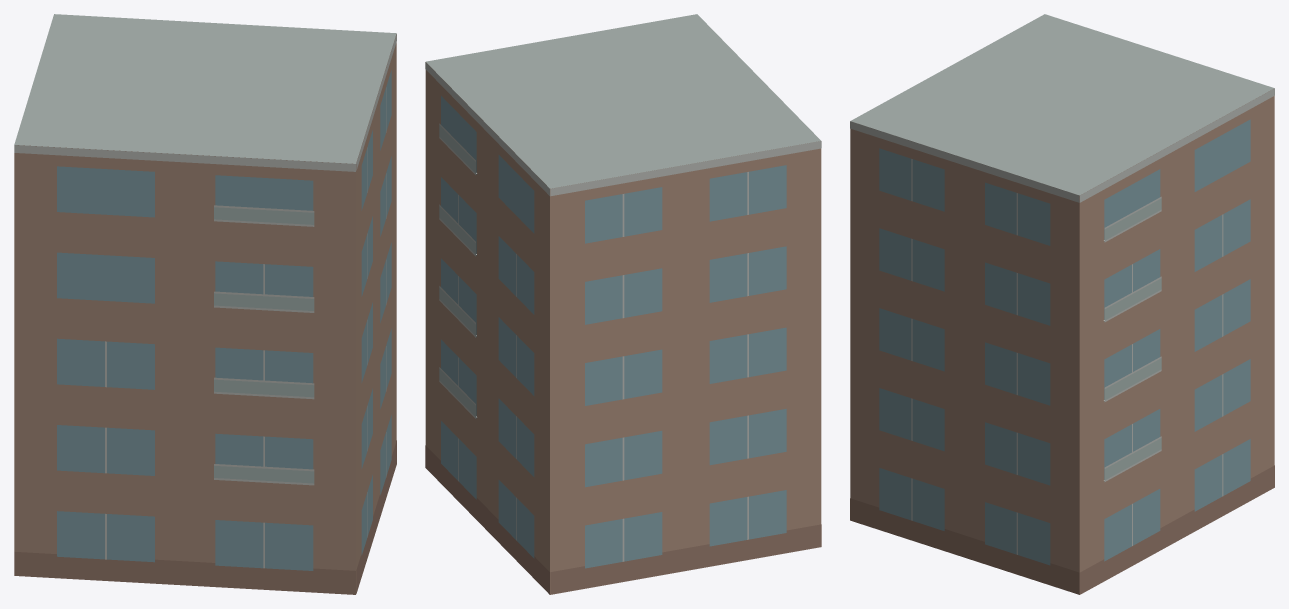
Rendered from survey-upis-32657014.glb.
The picture shows the model from 3 angles, left to right: view 1: azimuth 30°, elevation 25°; view 2: azimuth 150°, elevation 25°; view 3: azimuth 270°, elevation 25°; orthographic projection. The views are drawn at different scales.
Parts seen in each view (by area): view 1: survey-upis-32657014.tmp; view 2: survey-upis-32657014.tmp; view 3: survey-upis-32657014.tmp.
Boxes of the visible parts, x1=… form: survey-upis-32657014.tmp: x1=14, y1=14, x2=396, y2=594; survey-upis-32657014.tmp: x1=425, y1=14, x2=821, y2=594; survey-upis-32657014.tmp: x1=850, y1=14, x2=1274, y2=594.
Bounding box in the file's own units: 12.78 × 13.1 × 12.63.
